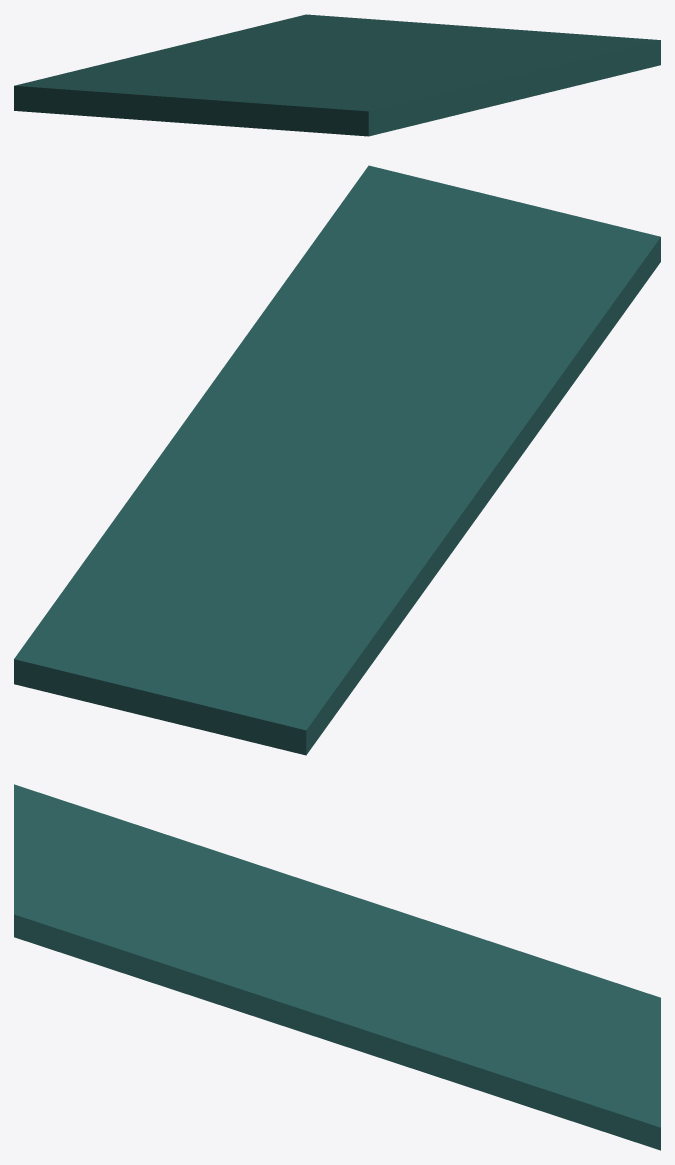
3 renders of one model, top to bottom at view 1: azimuth 30°, elevation 25°; view 2: azimuth 150°, elevation 25°; view 3: azimuth 270°, elevation 25°, orthographic. The views are drawn at different scales.
Visible parts, largest first — view 1: LOWER-ROOF-B6-2; view 2: LOWER-ROOF-B6-2; view 3: LOWER-ROOF-B6-2.
Boxes of the visible parts, x1,y1,x2,y2 form: LOWER-ROOF-B6-2: (14,14,660,136); LOWER-ROOF-B6-2: (14,165,660,755); LOWER-ROOF-B6-2: (14,784,660,1150).
Bounding box in the file's own units: 0.9752 × 0.8261 × 2.05.
